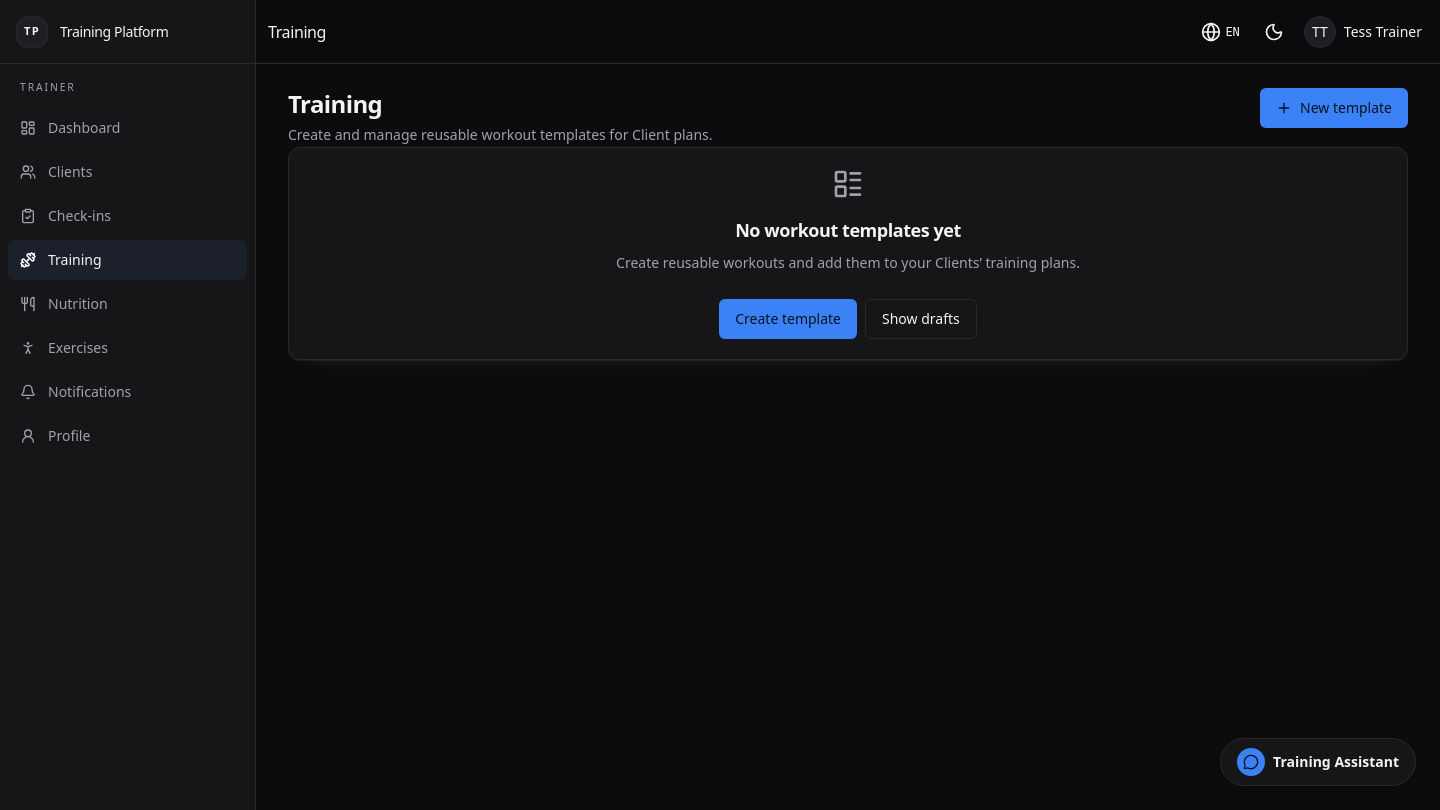
Scenario: Trainer workspace › reaches drafts from the empty Active library
The image size is (1440, 810).
Click the button "Show drafts" at {"x": 921, "y": 318}, box left=865, top=298, right=977, bottom=338
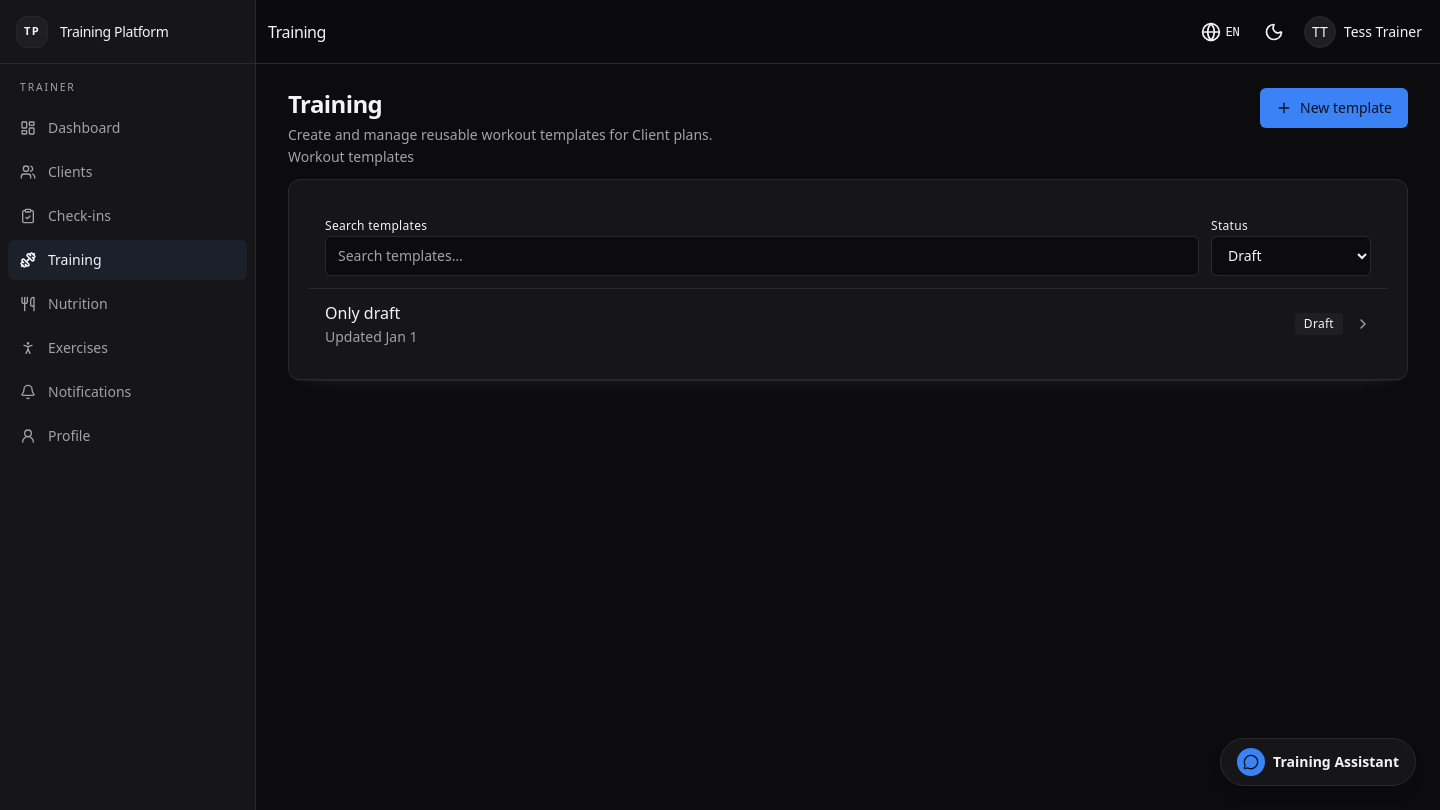
Expected: the dropdown labelled "Status" shows "Draft", left=1211, top=236, right=1371, bottom=276
